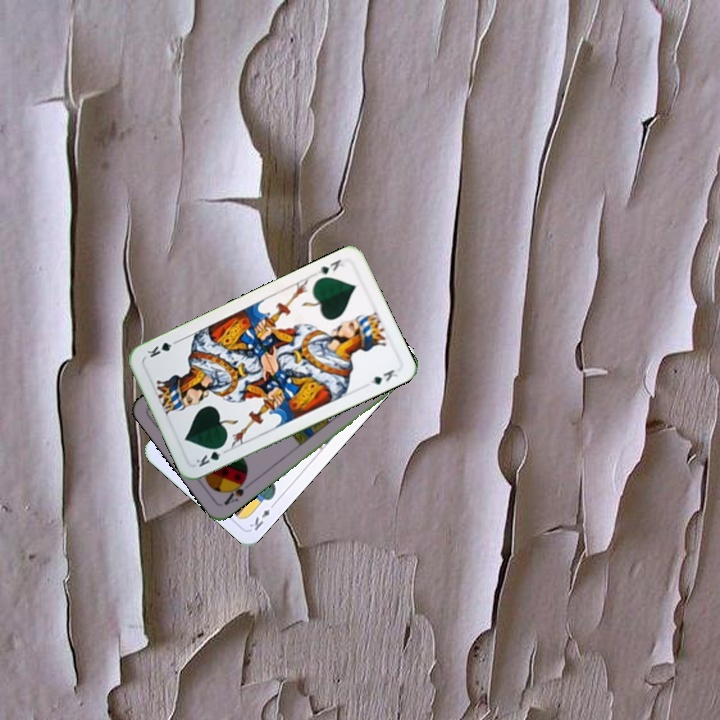EK: (245, 498, 278, 534)
GK: (192, 441, 227, 470), (314, 255, 347, 277)
SA: (220, 474, 249, 508)
